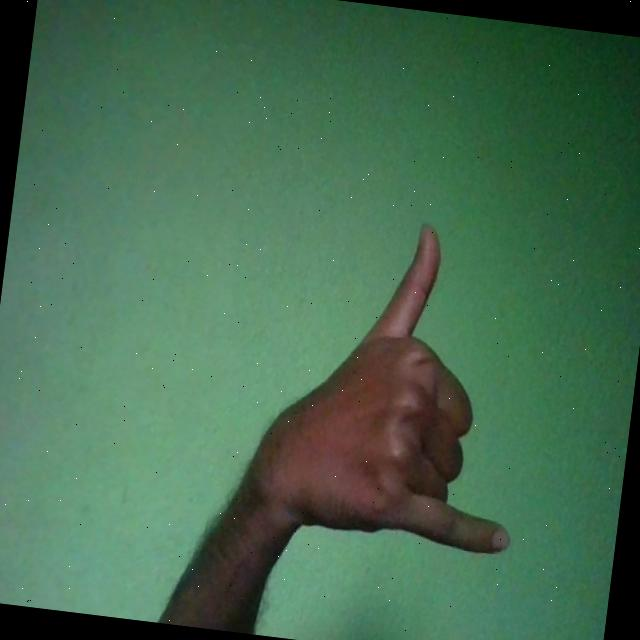Call Me: (234, 202, 546, 556)
